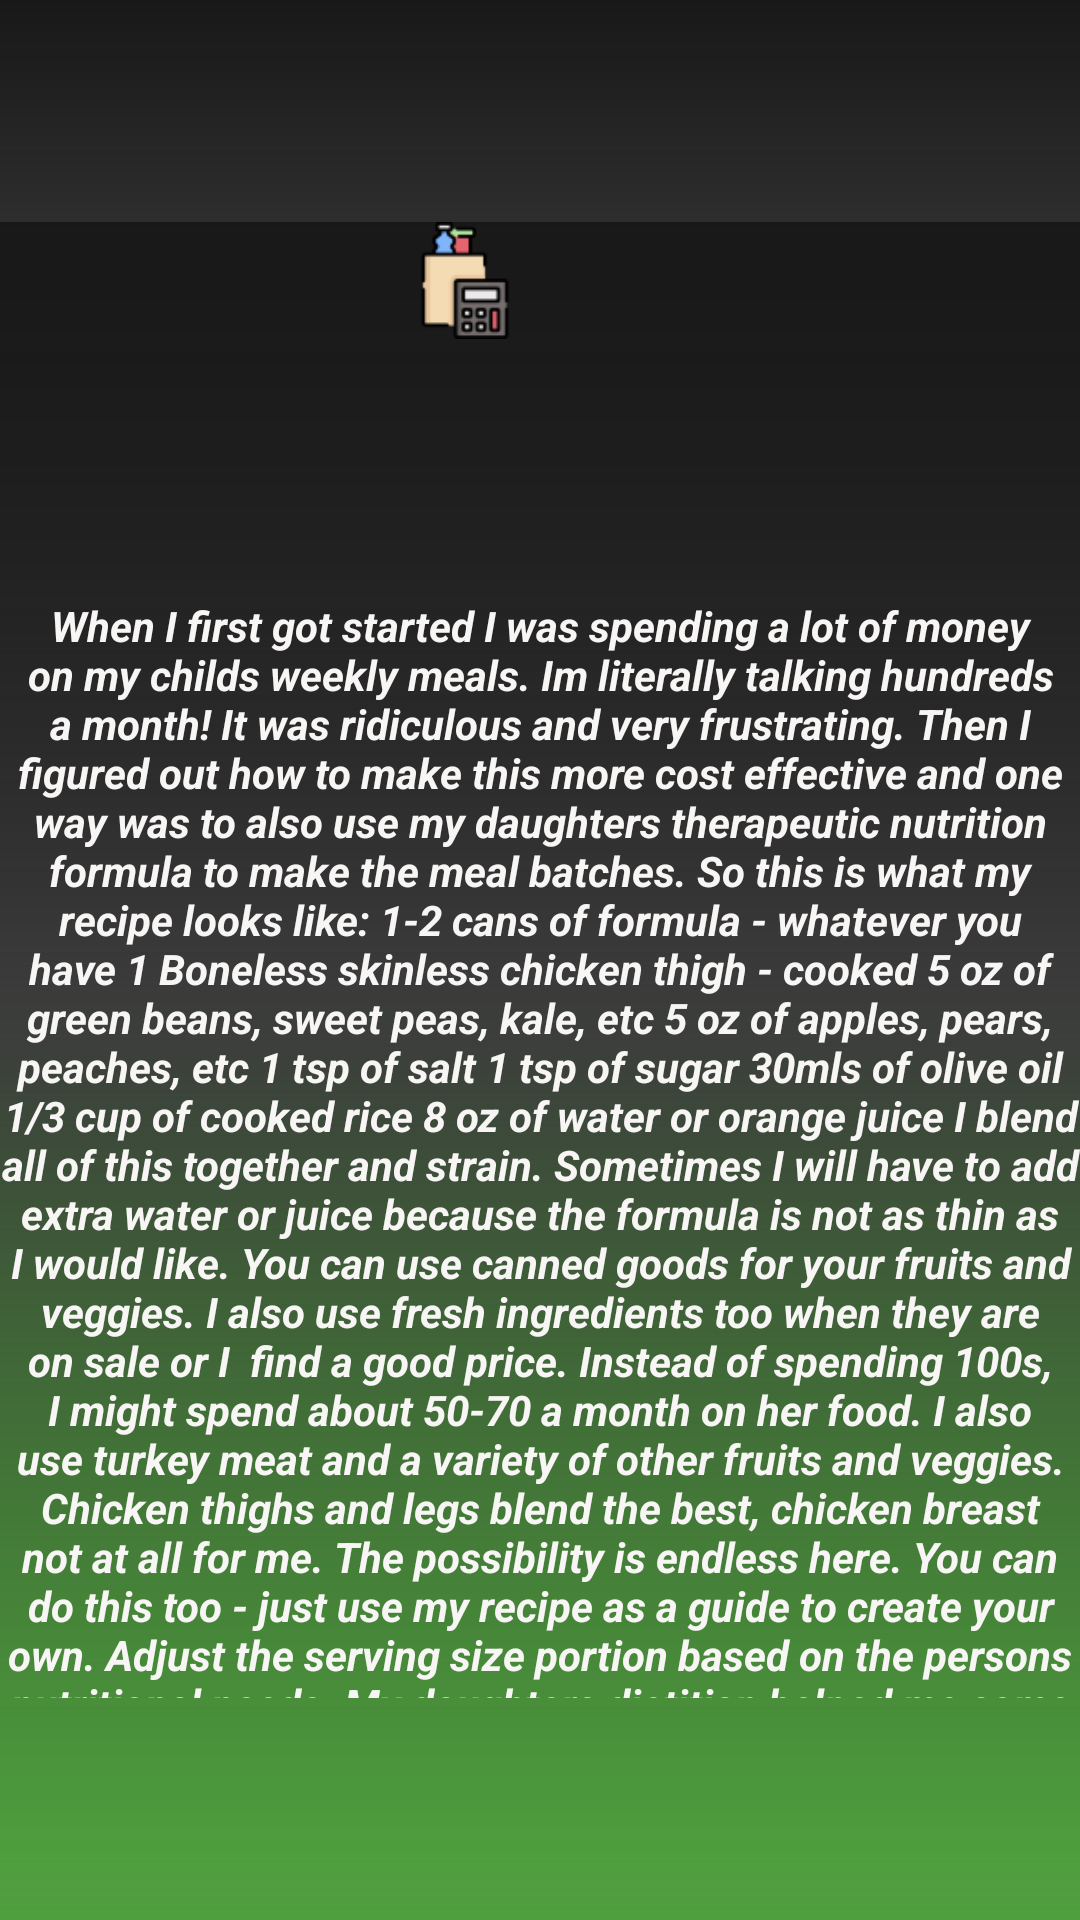

Icon bounding boxes for this 1080 × 1920 phone screenshot, format (x1, y1, x2, y2):
calculator: (422, 222, 507, 339)
